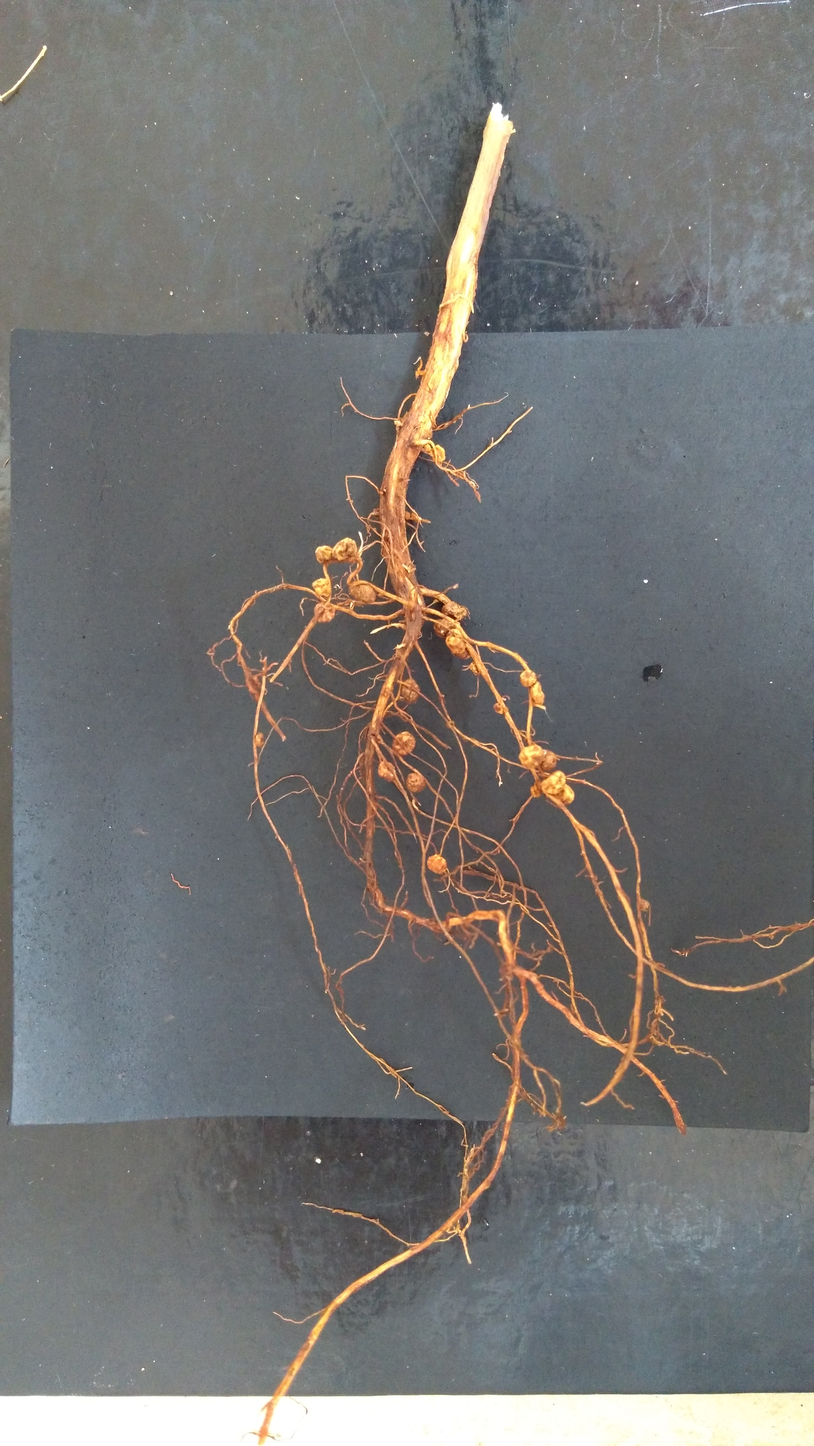nodule: (517, 743, 546, 771), (443, 635, 473, 661), (345, 583, 378, 606), (331, 536, 359, 563), (391, 730, 417, 757), (540, 770, 567, 796), (398, 677, 421, 706), (439, 600, 469, 621), (309, 576, 333, 600), (312, 601, 337, 624), (553, 782, 576, 807), (432, 618, 456, 640), (425, 853, 449, 875), (405, 771, 427, 794), (377, 760, 397, 784), (529, 680, 546, 708), (540, 746, 558, 772), (313, 543, 334, 564), (517, 668, 538, 688), (434, 444, 447, 464), (254, 731, 266, 748), (491, 701, 504, 716), (468, 661, 480, 677), (639, 898, 651, 914), (529, 784, 541, 799), (411, 511, 421, 524), (423, 443, 432, 453), (404, 510, 410, 520)
